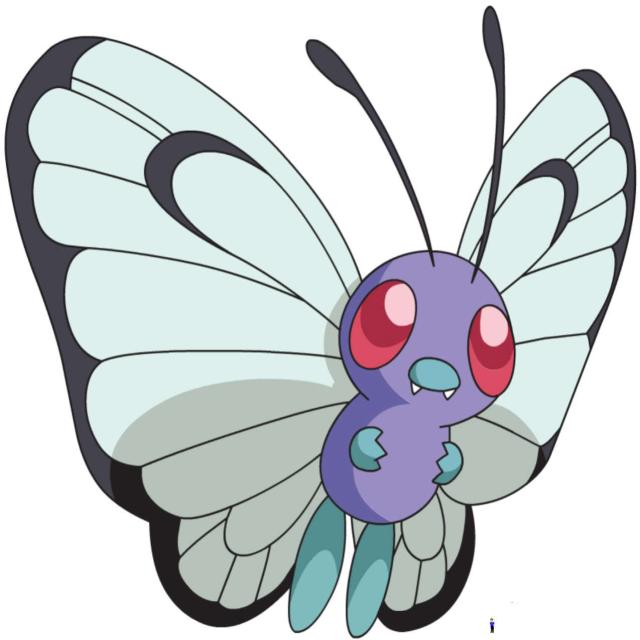Butterfree: (192, 158, 516, 616)
